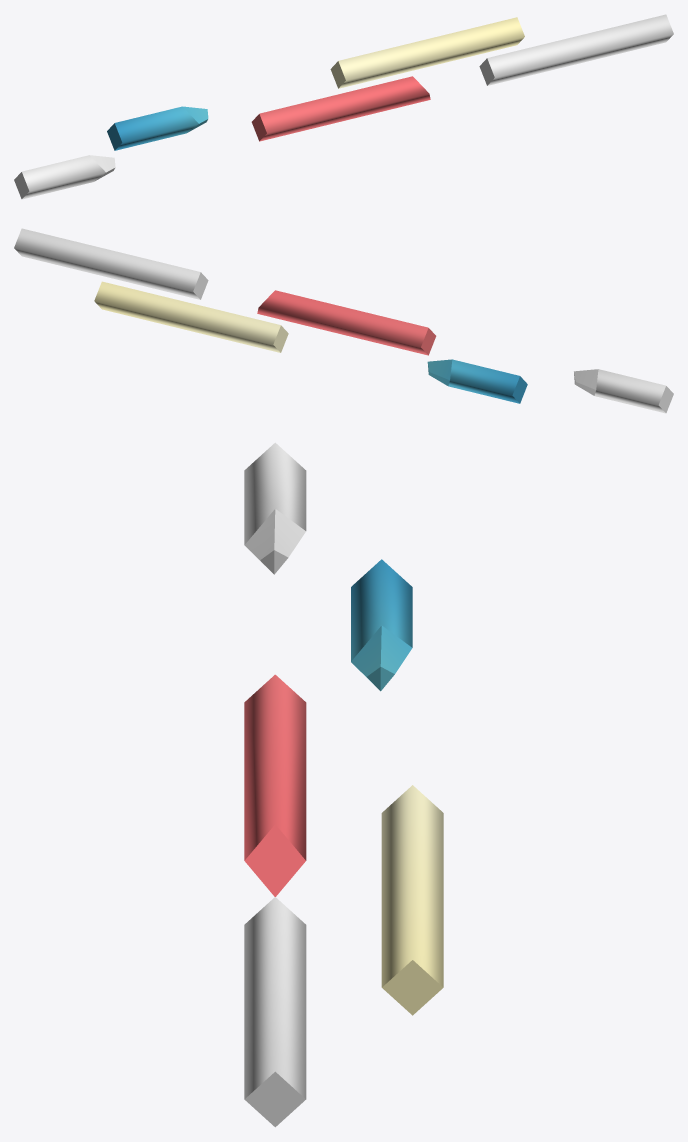
File: CR_Chalk.FBX
The picture shows the model from 3 angles, top to bottom: view 1: azimuth 30°, elevation 25°; view 2: azimuth 150°, elevation 25°; view 3: azimuth 270°, elevation 25°; orthographic projection. The views are drawn at different scales.
Visible parts, largest first — view 1: CR_Chalk_004, CR_Chalk_001, CR_Chalk_002, CR_Chalk_003, CR_Chalk_005; view 2: CR_Chalk_004, CR_Chalk_001, CR_Chalk_002, CR_Chalk_005, CR_Chalk_003; view 3: CR_Chalk_004, CR_Chalk_001, CR_Chalk_002, CR_Chalk_003, CR_Chalk_005.
Boxes of the visible parts, x1,y1,x2,y2 form: CR_Chalk_004: (330,17,524,88); CR_Chalk_001: (479,14,673,85); CR_Chalk_002: (251,76,430,141); CR_Chalk_003: (14,155,115,199); CR_Chalk_005: (107,106,208,150); CR_Chalk_004: (94,281,288,352); CR_Chalk_001: (14,228,208,299); CR_Chalk_002: (257,290,436,355); CR_Chalk_005: (427,359,527,403); CR_Chalk_003: (574,369,673,413); CR_Chalk_004: (381,785,443,1015); CR_Chalk_001: (244,897,306,1127); CR_Chalk_002: (244,674,306,896); CR_Chalk_003: (244,442,306,574); CR_Chalk_005: (351,559,412,691).
Size of the model in its own units: 24.11 by 1 by 3.23.
Materials: 1 (1 with a texture image).
